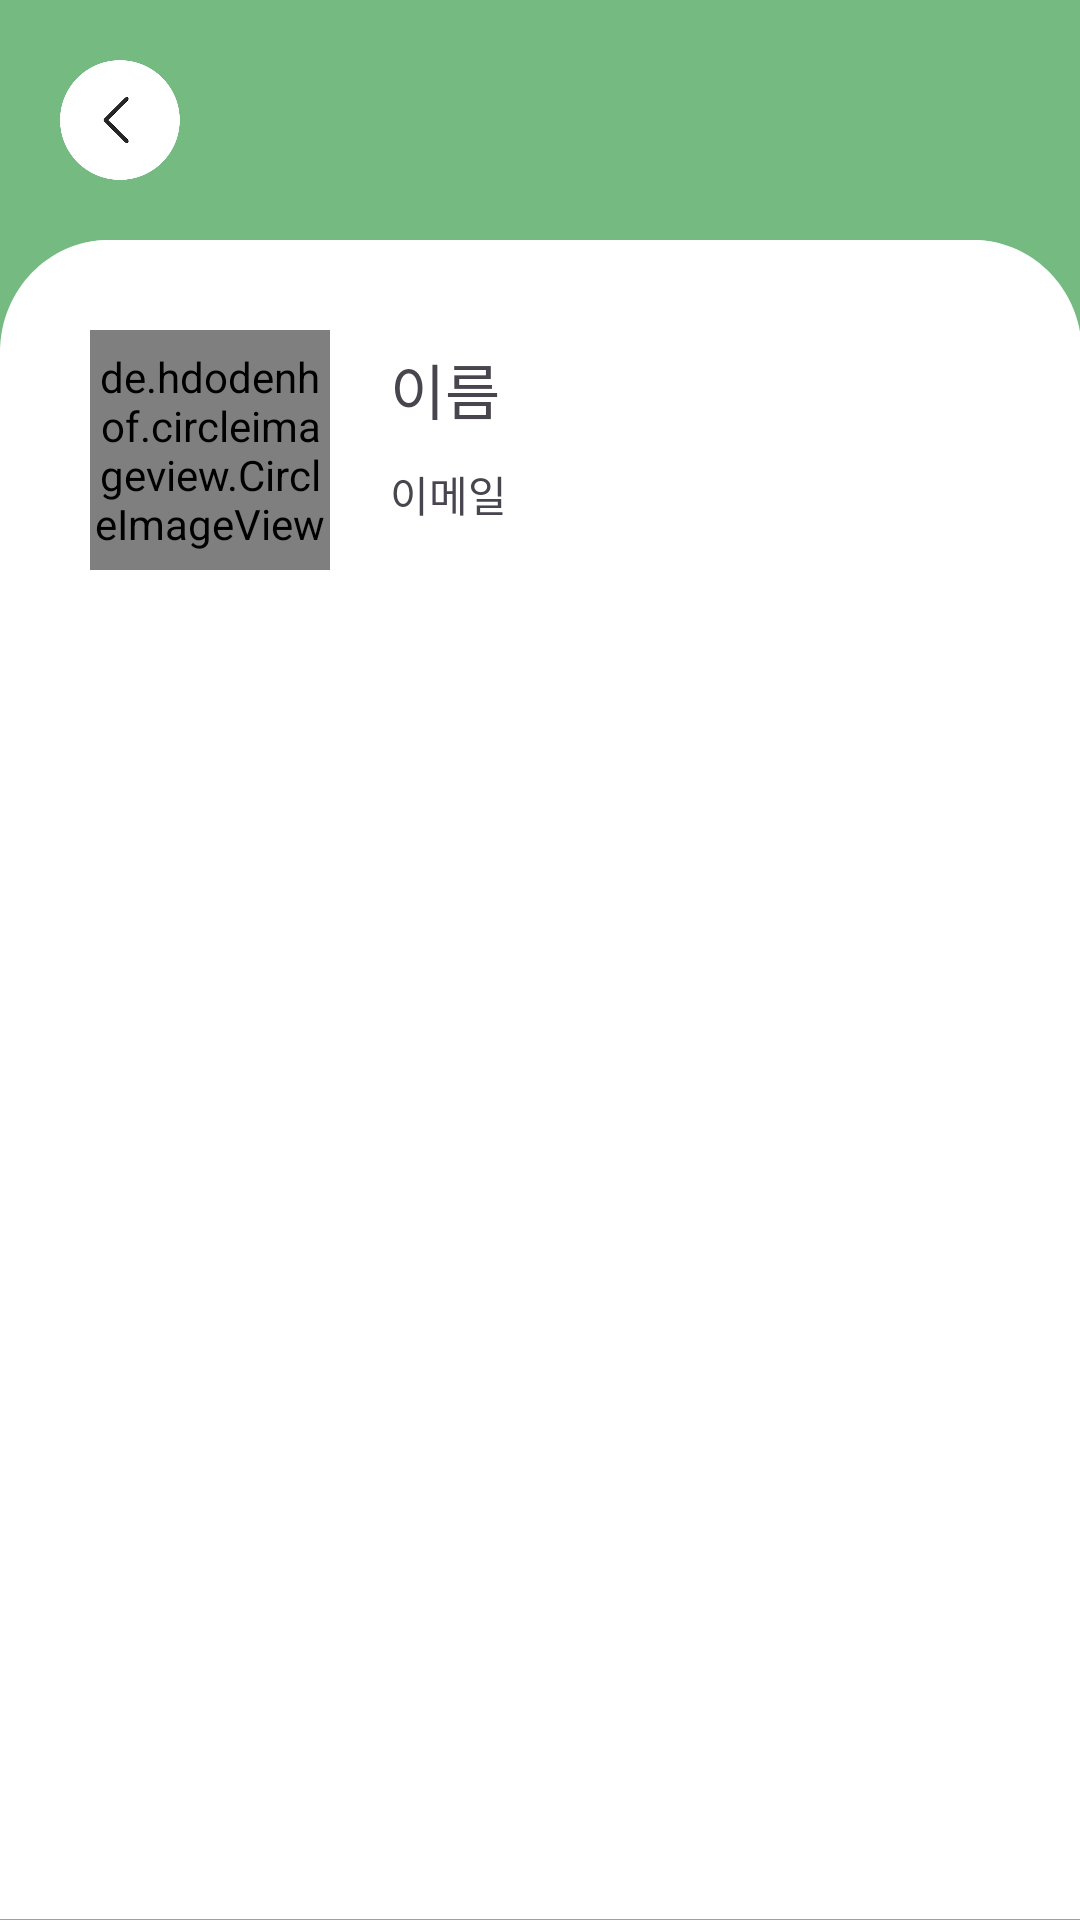

Named icons in this screenshot (1080x1920) and their centers, point (x, y):
return back: point (120, 120)
